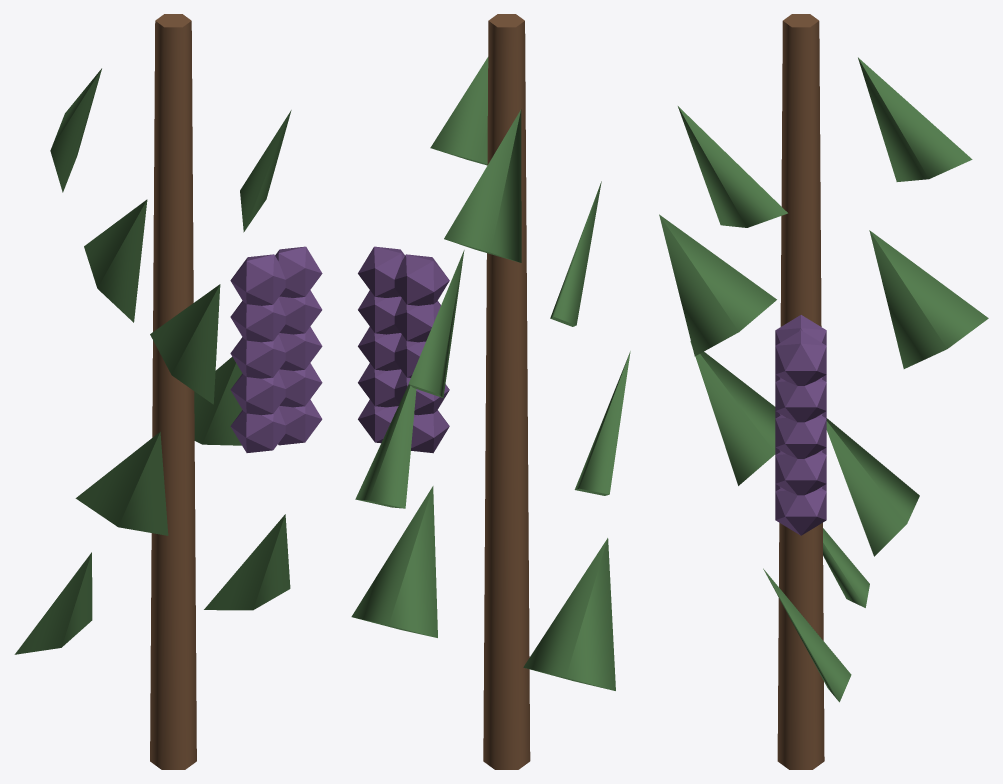
The model's file is crop-grape-vine-stage-4-fruiting.source.glb.
3 renders of one model, left to right at view 1: azimuth 30°, elevation 25°; view 2: azimuth 150°, elevation 25°; view 3: azimuth 270°, elevation 25°, orthographic.
Parts seen in each view (by area): view 1: stake, vine-leaf-2, vine-leaf-7, vine-leaf-3, vine-leaf-1, vine-leaf-5, vine-leaf-6, vine-leaf-8, grape-1, vine-leaf-4, grape-9, grape-5 (+7 smaller); view 2: stake, vine-leaf-5, vine-leaf-1, vine-leaf-8, vine-leaf-6, vine-leaf-4, vine-leaf-3, vine-leaf-2, vine-leaf-7, grape-1, grape-2, grape-3 (+7 smaller); view 3: stake, vine-leaf-7, vine-leaf-3, vine-leaf-8, vine-leaf-2, vine-leaf-6, vine-leaf-4, grape-2, vine-leaf-1, grape-10, grape-4, grape-6 (+3 smaller).
Boxes of the visible parts, x1,y1,x2,y2 form: stake: (150,14,196,769); vine-leaf-2: (75,431,168,535); vine-leaf-7: (150,284,220,404); vine-leaf-3: (84,199,147,322); vine-leaf-1: (204,514,290,610); vine-leaf-5: (14,552,92,654); vine-leaf-6: (194,357,242,445); vine-leaf-8: (50,68,101,192); grape-1: (230,254,285,305); vine-leaf-4: (240,110,291,232); grape-9: (230,407,285,452); grape-5: (230,334,285,378); stake: (483,14,530,769); vine-leaf-5: (523,538,615,690); vine-leaf-1: (351,486,437,637); vine-leaf-8: (444,109,521,262); vine-leaf-6: (355,384,416,508); vine-leaf-4: (430,57,488,165); vine-leaf-3: (408,250,464,397); vine-leaf-2: (574,351,630,495); vine-leaf-7: (550,181,601,326); grape-1: (394,254,449,305); grape-2: (358,246,404,297); grape-3: (394,298,440,342); stake: (777,14,824,769); vine-leaf-7: (659,214,776,356); vine-leaf-3: (869,230,988,368); vine-leaf-8: (858,57,972,181); vine-leaf-2: (690,341,775,485); vine-leaf-6: (826,418,919,556); vine-leaf-4: (678,106,787,227); grape-2: (775,330,826,385); vine-leaf-1: (763,568,851,702); grape-10: (775,488,826,535); grape-4: (775,378,826,422); grape-6: (775,415,826,458).
Size of the model in its own units: 0.4745 by 1.22 by 0.4924.
